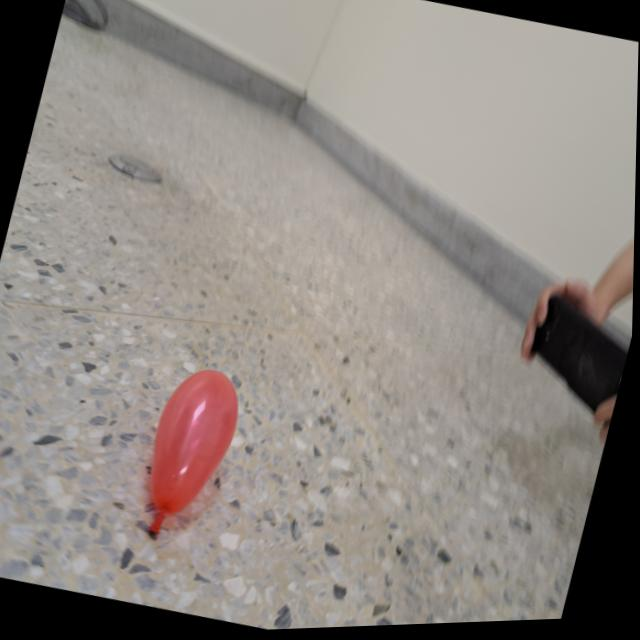red: (130, 360, 250, 553)
